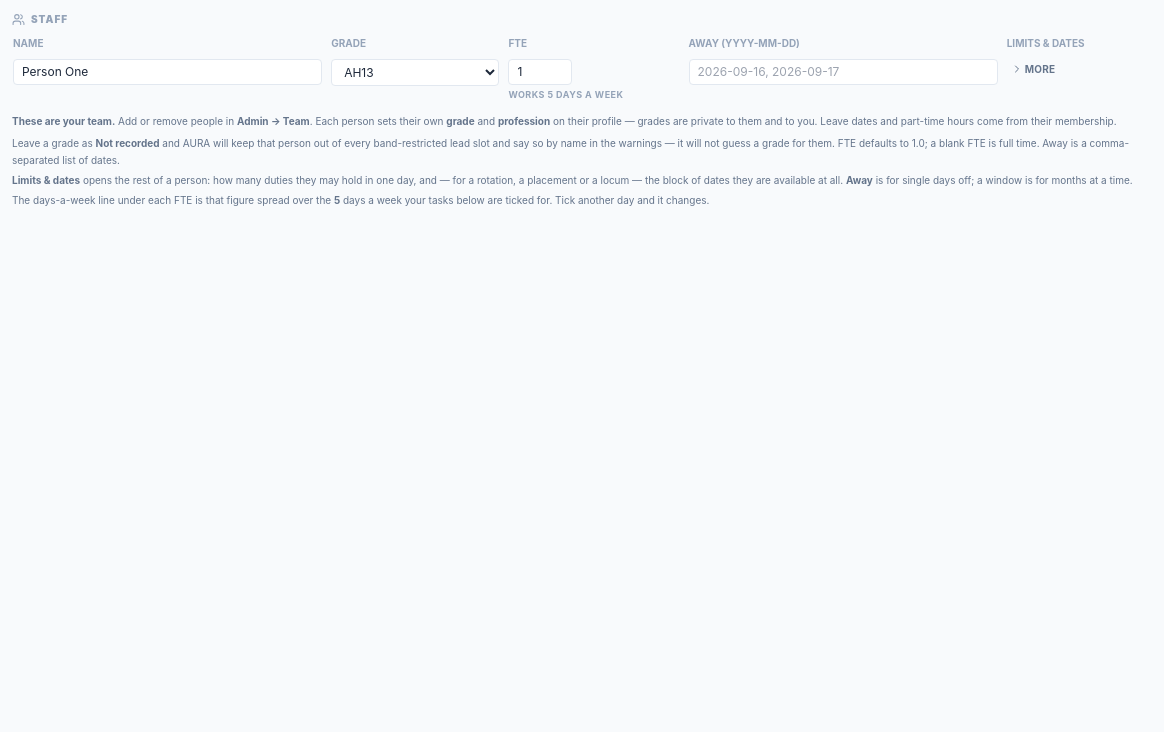
the live drawer offers nothing it cannot do › names Admin → Team as the place these are set
Step 1. Click the button with aria-label "Staff row 1: limits and availability" → (1033, 69), box [1007,59,1059,79]
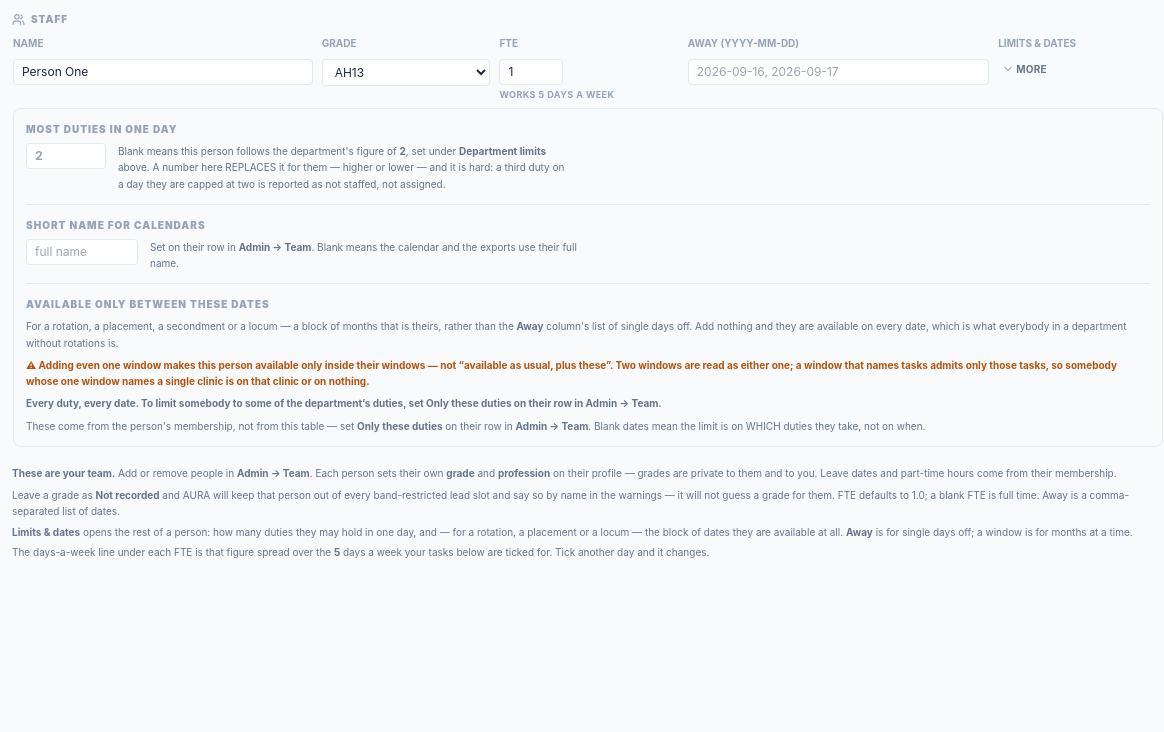
Expected: the element named "Staff row 1 short name" is shown, [13,108,1163,447]
